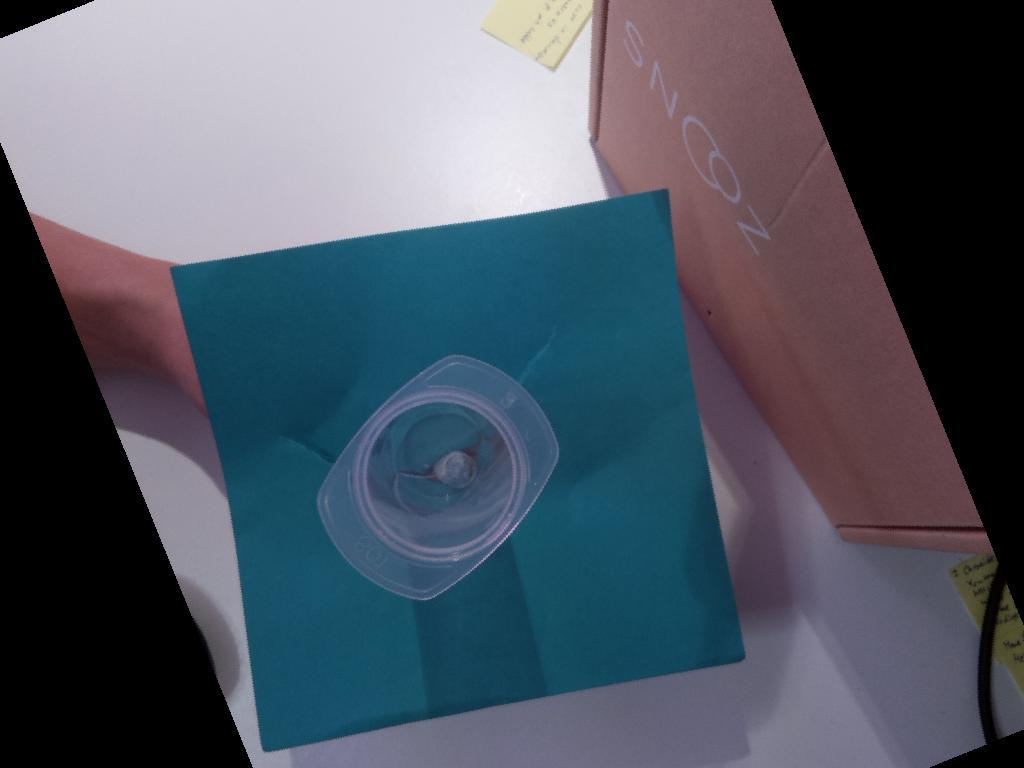clean: (309, 353, 565, 600)
